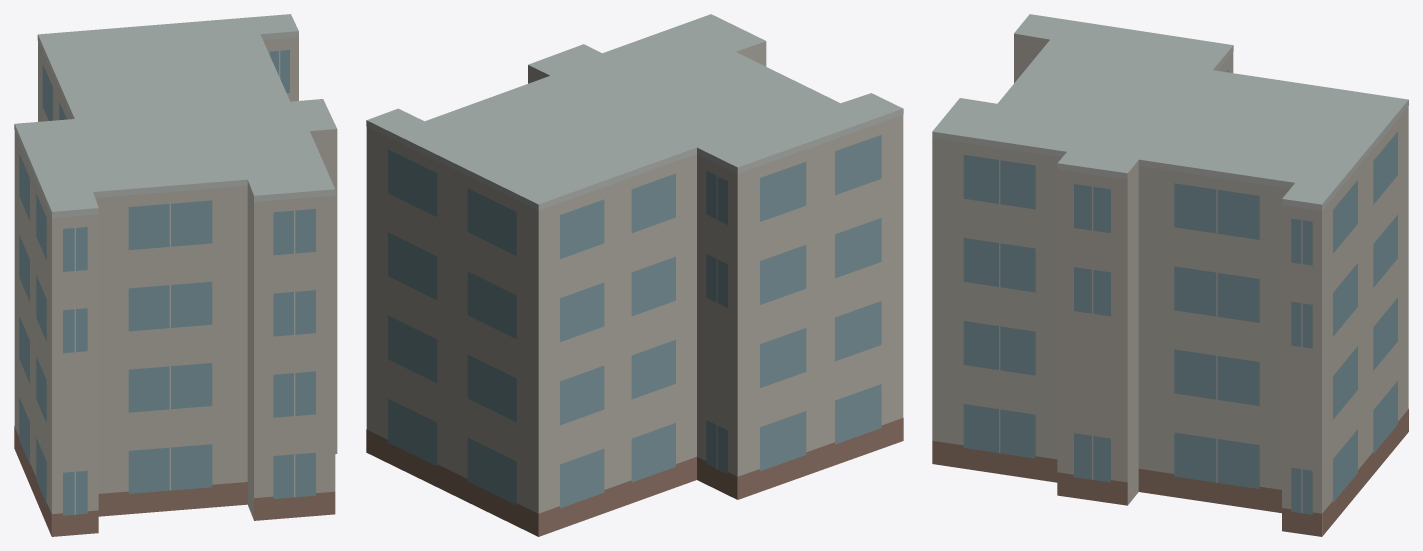
Rendered from survey-upis-32705881.glb.
3 views of the same model, side by side, from view 1: azimuth 30°, elevation 25°; view 2: azimuth 150°, elevation 25°; view 3: azimuth 270°, elevation 25° (orthographic). The views are drawn at different scales.
Parts seen in each view (by area): view 1: survey-upis-32705881.tmp; view 2: survey-upis-32705881.tmp; view 3: survey-upis-32705881.tmp.
Boxes of the visible parts, x1,y1,x2,y2 form: survey-upis-32705881.tmp: [14, 14, 337, 536]; survey-upis-32705881.tmp: [366, 14, 903, 536]; survey-upis-32705881.tmp: [932, 14, 1408, 536].
Size of the model in its own units: 15.82 by 12.85 by 16.71.
